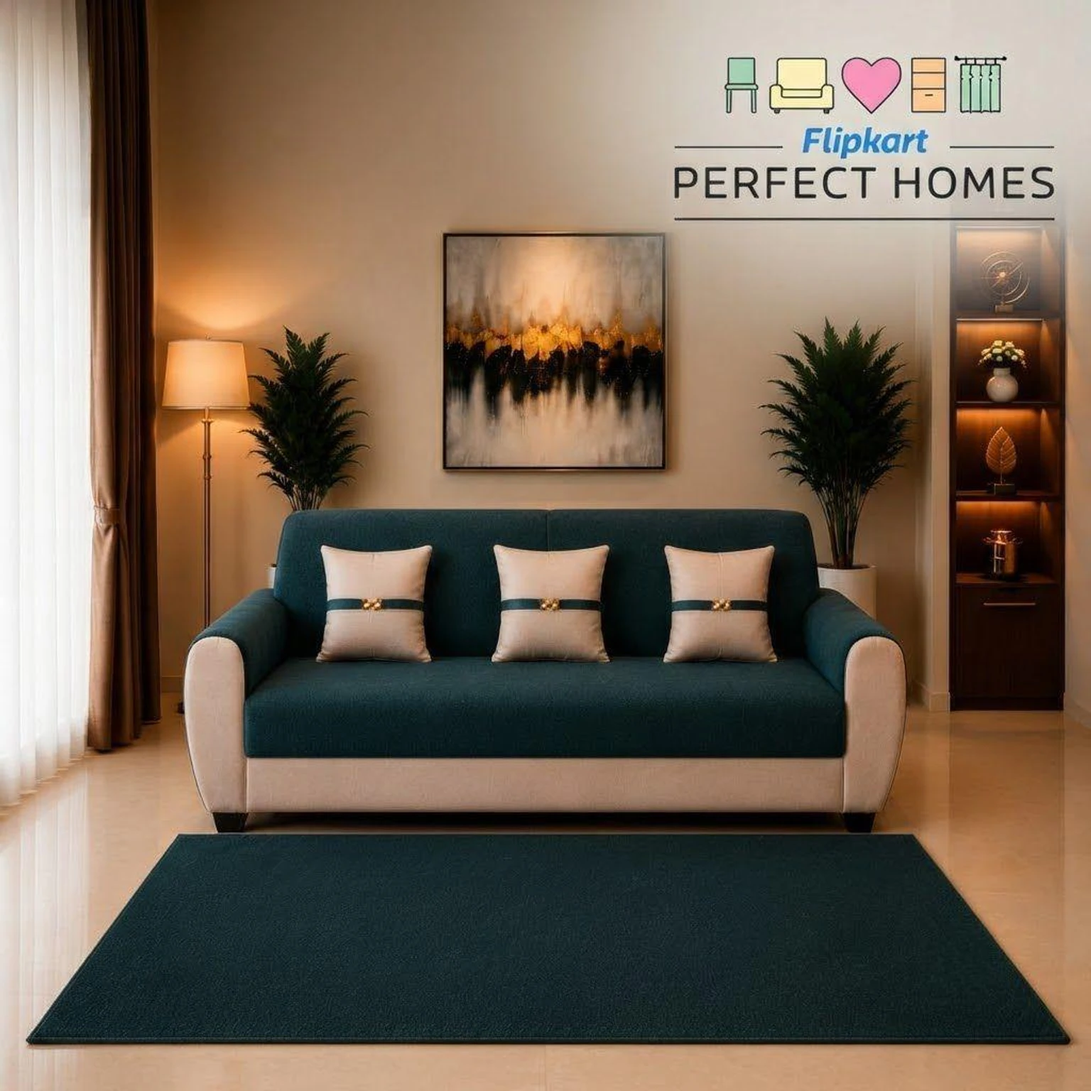3seatersofa: (185, 510, 905, 831)
backrest: (277, 511, 826, 657)
base: (245, 759, 840, 813)
leftarmrest: (804, 590, 906, 813)
leg: (839, 813, 874, 832), (213, 812, 246, 832)
pillow: (492, 544, 609, 662), (317, 546, 430, 661), (664, 545, 776, 661)
rightarmrest: (184, 590, 287, 810)
seat: (236, 656, 845, 758)
